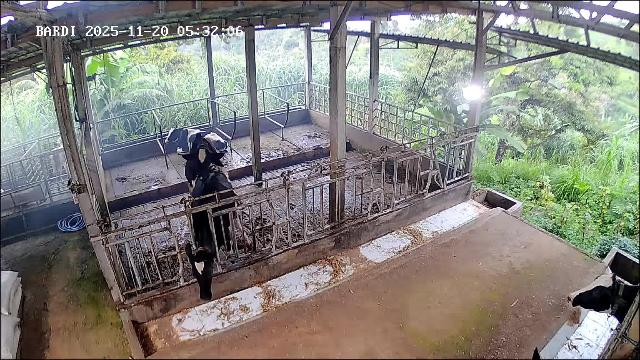mounting: (184, 133, 243, 206)
